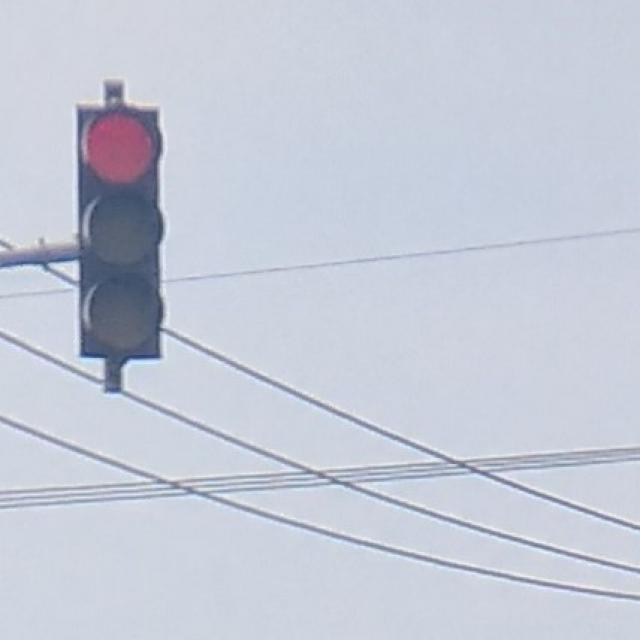red light: (73, 102, 169, 366)
